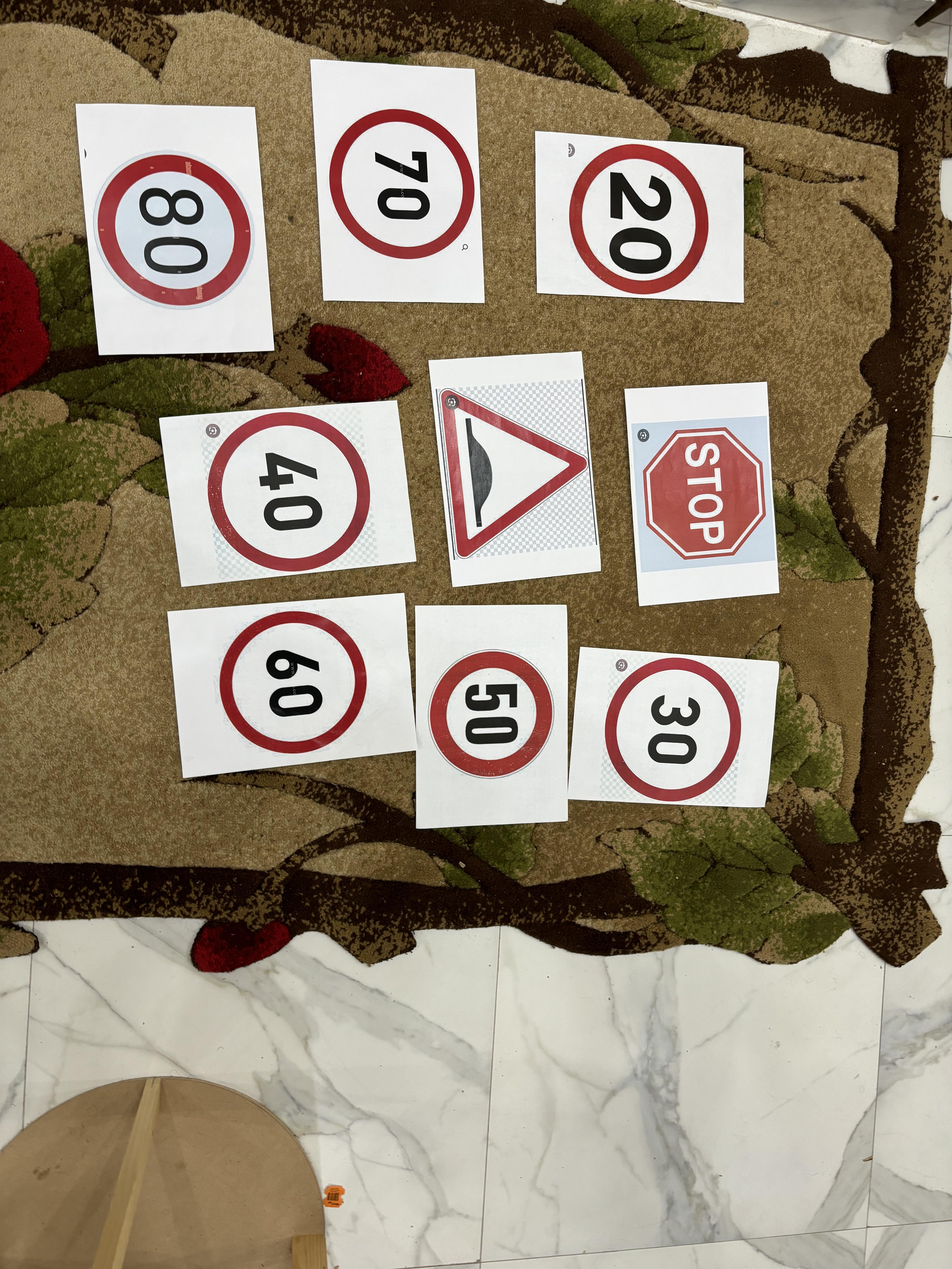20-Speed: (560, 138, 719, 296)
30-speed: (600, 654, 740, 808)
40-Speed: (203, 411, 378, 570)
50-Speed: (423, 645, 552, 780)
60-Speed: (216, 607, 378, 755)
70-Speed: (325, 100, 484, 264)
80-Speed: (100, 145, 251, 308)
Hump: (432, 383, 587, 559)
Stop: (634, 420, 778, 568)
